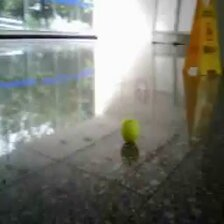tennis: (121, 119, 139, 142)
